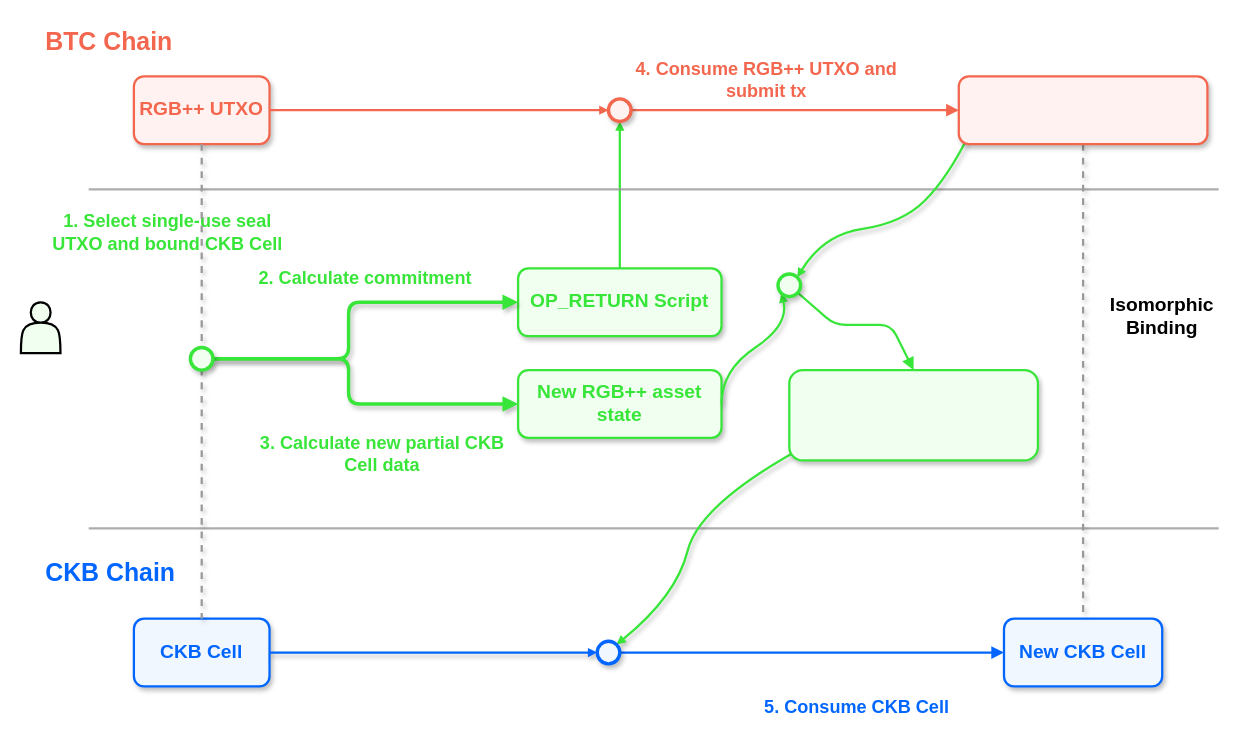
This 1260x745 diagram has some shape labels left out. Here are the shapes that lost their labels. From the top down, the centre of each, then its label:
At point (1084, 111): "New RGB++ UTXO".
At point (914, 416): "New RGB++ asset state with new single-use seal".
